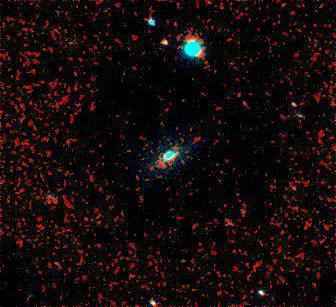star: (149, 26, 179, 56)
